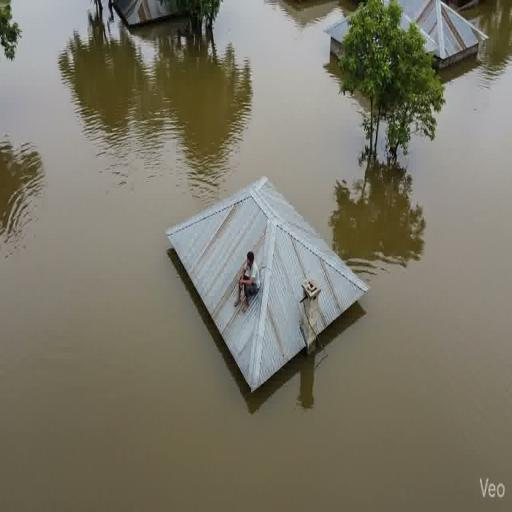human: (233, 250, 266, 312)
